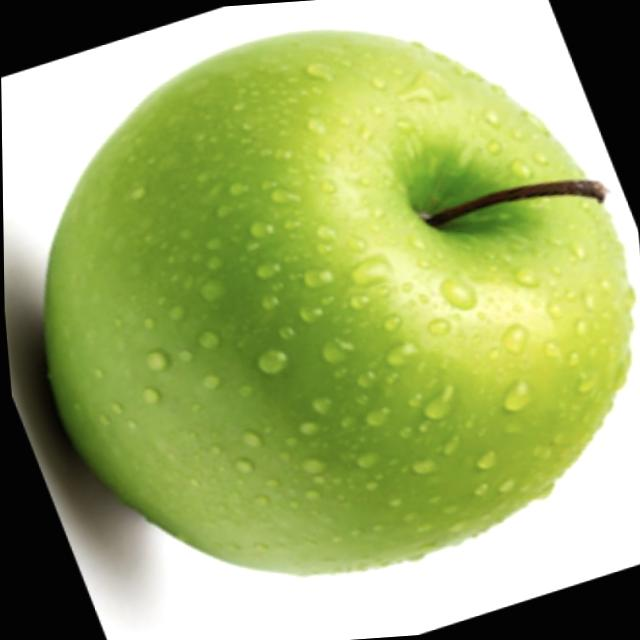organik: (13, 0, 640, 616)
